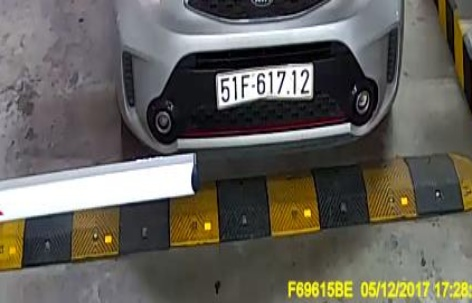plate: (215, 57, 327, 116)
